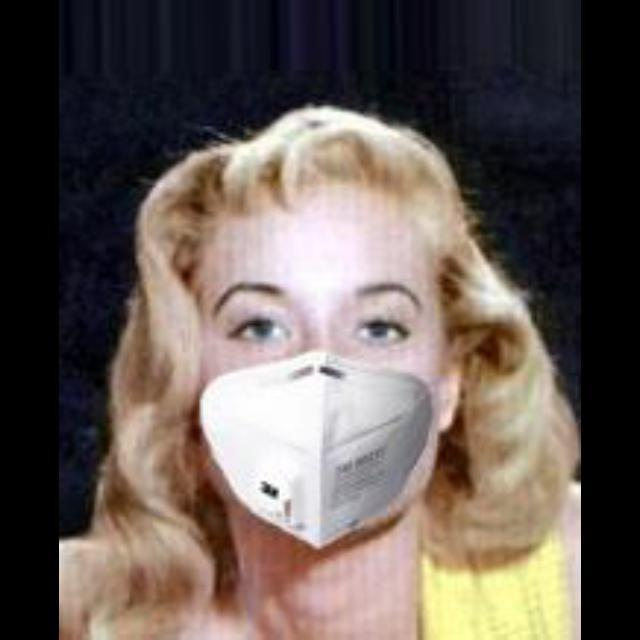suspicion: (169, 128, 483, 572)
